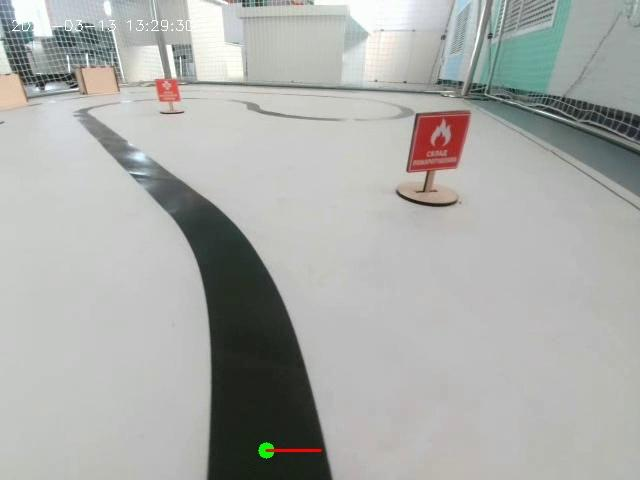fire: (376, 94, 484, 210)
medical: (133, 72, 187, 122)
